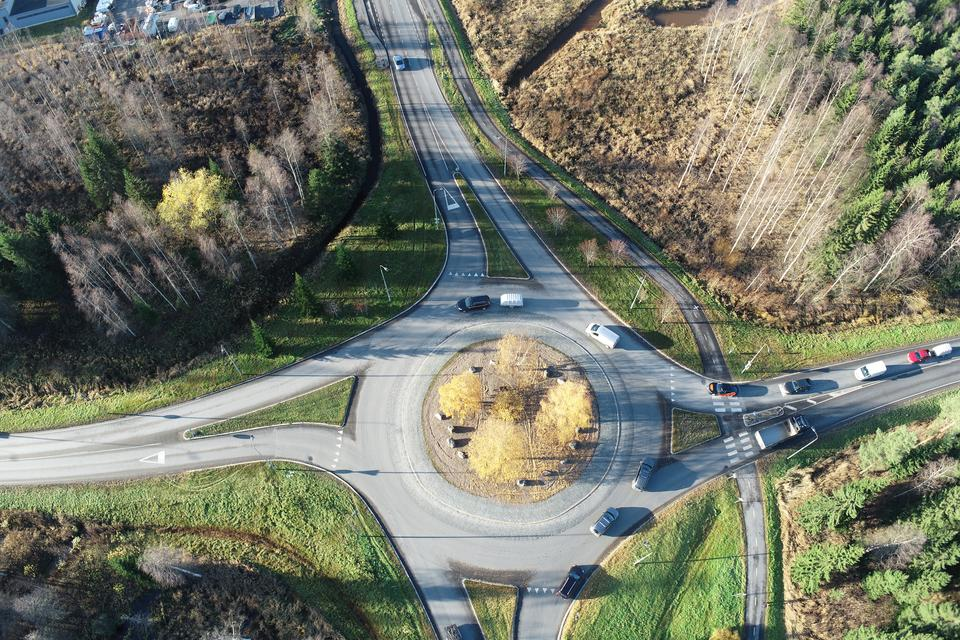intersection: (687, 344, 801, 530)
roundabout: (291, 263, 672, 585)
